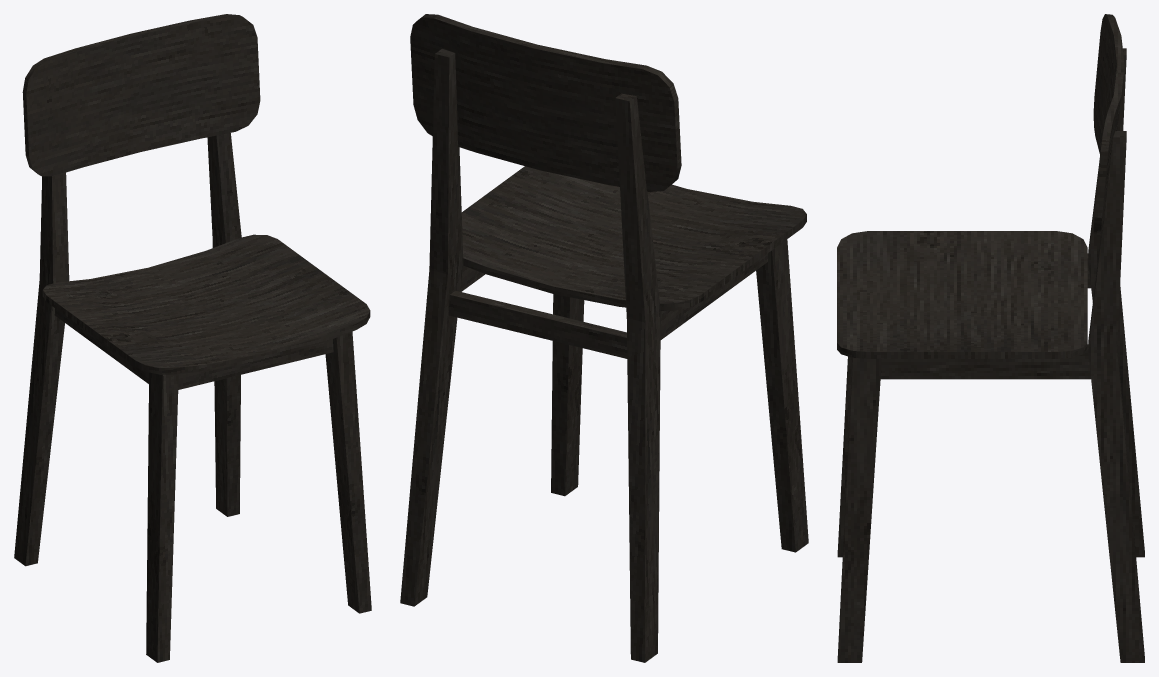
The model's file is chair_mp_3.glb.
3 renders of one model, left to right at view 1: azimuth 30°, elevation 25°; view 2: azimuth 150°, elevation 25°; view 3: azimuth 270°, elevation 25°, orthographic. The views are drawn at different scales.
Visible parts, largest first — view 1: chair_mp_3; view 2: chair_mp_3; view 3: chair_mp_3.
Part boxes in pixels (x1,y1,x2,y2): chair_mp_3: (14,14,371,662); chair_mp_3: (400,14,808,662); chair_mp_3: (837,14,1144,662).
Bounding box in the file's own units: 0.4763 × 0.9967 × 0.5126.
Materials: 1 (1 with a texture image).
